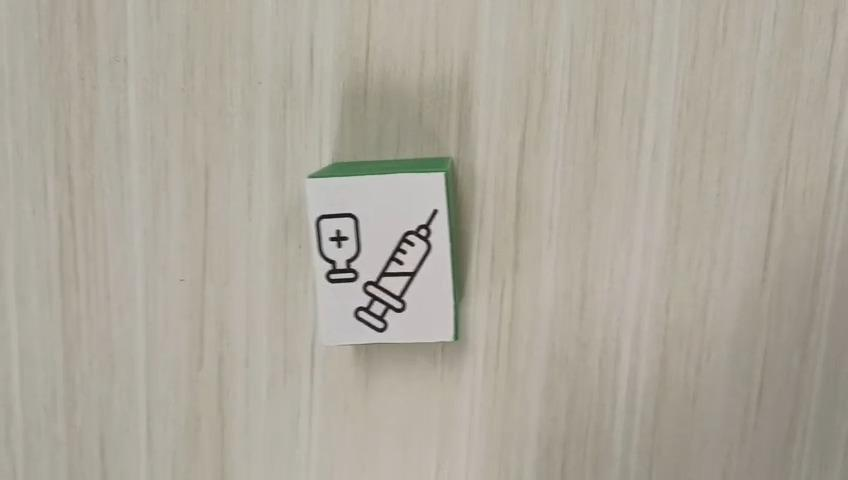antiseptic cream: (304, 155, 458, 346)
